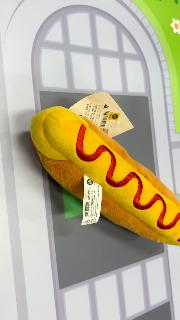hotdog: (31, 106, 180, 247)
